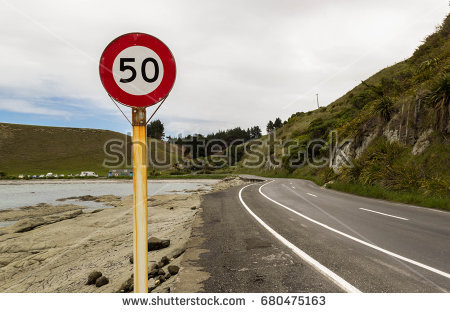Speed_limit_50km: (99, 33, 179, 106)
